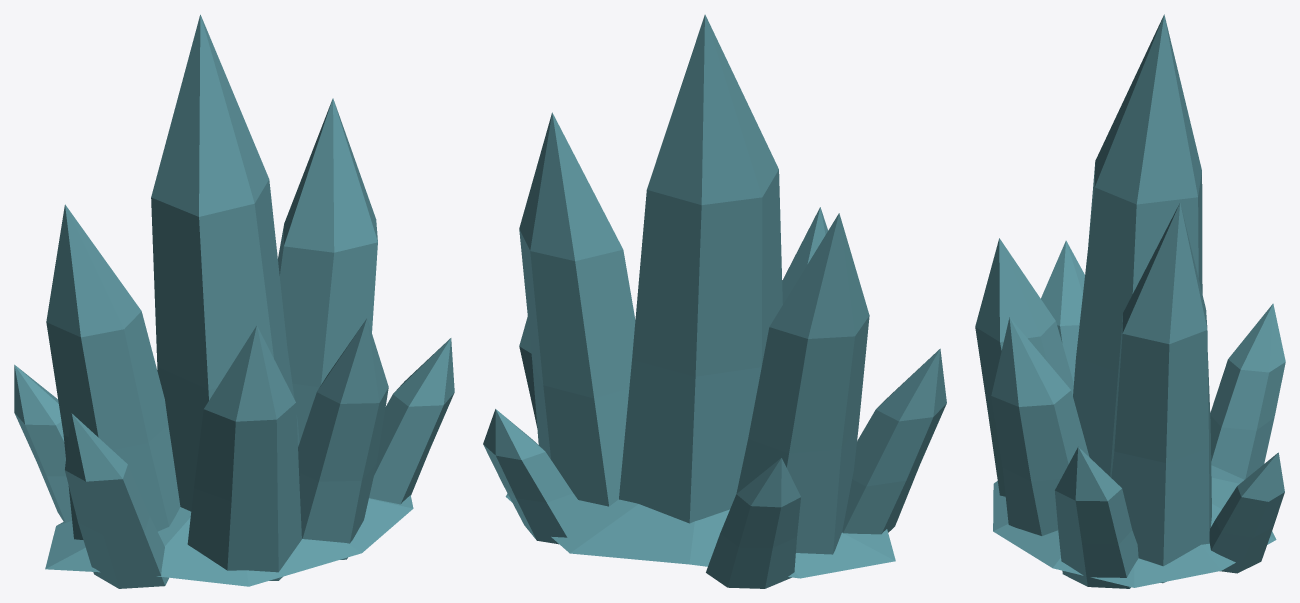
File: rock_windglass_shard_cluster_a.glb
3 renders of one model, left to right at view 1: azimuth 30°, elevation 25°; view 2: azimuth 150°, elevation 25°; view 3: azimuth 270°, elevation 25°, orthographic. The views are drawn at different scales.
Visible parts, largest first — view 1: rock_windglass_shard_cluster_a_lod0; view 2: rock_windglass_shard_cluster_a_lod0; view 3: rock_windglass_shard_cluster_a_lod0.
Boxes of the visible parts, x1=… form: rock_windglass_shard_cluster_a_lod0: x1=14, y1=14, x2=454, y2=588; rock_windglass_shard_cluster_a_lod0: x1=483, y1=14, x2=946, y2=588; rock_windglass_shard_cluster_a_lod0: x1=975, y1=14, x2=1285, y2=588.
Size of what is drawn, in the model's own units: 2.3 by 2.85 by 1.63.
